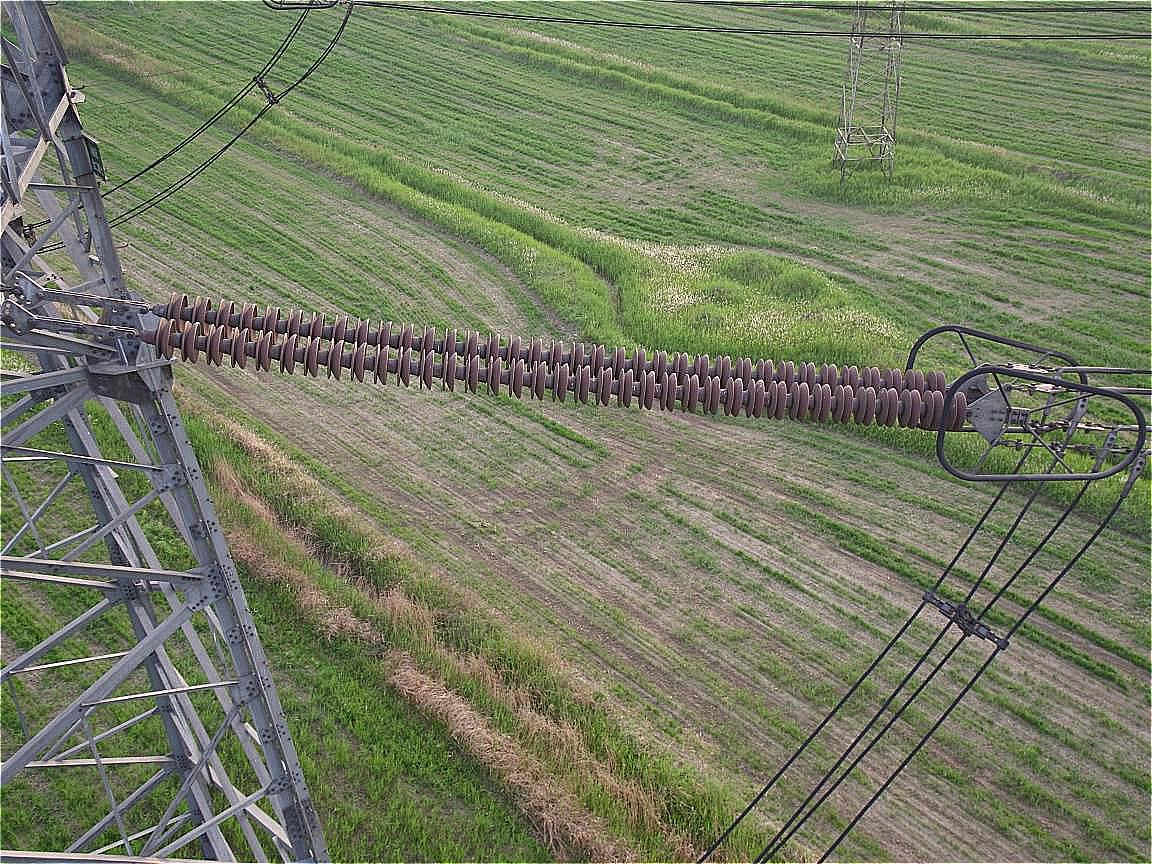insultor2: (137, 282, 981, 453)
